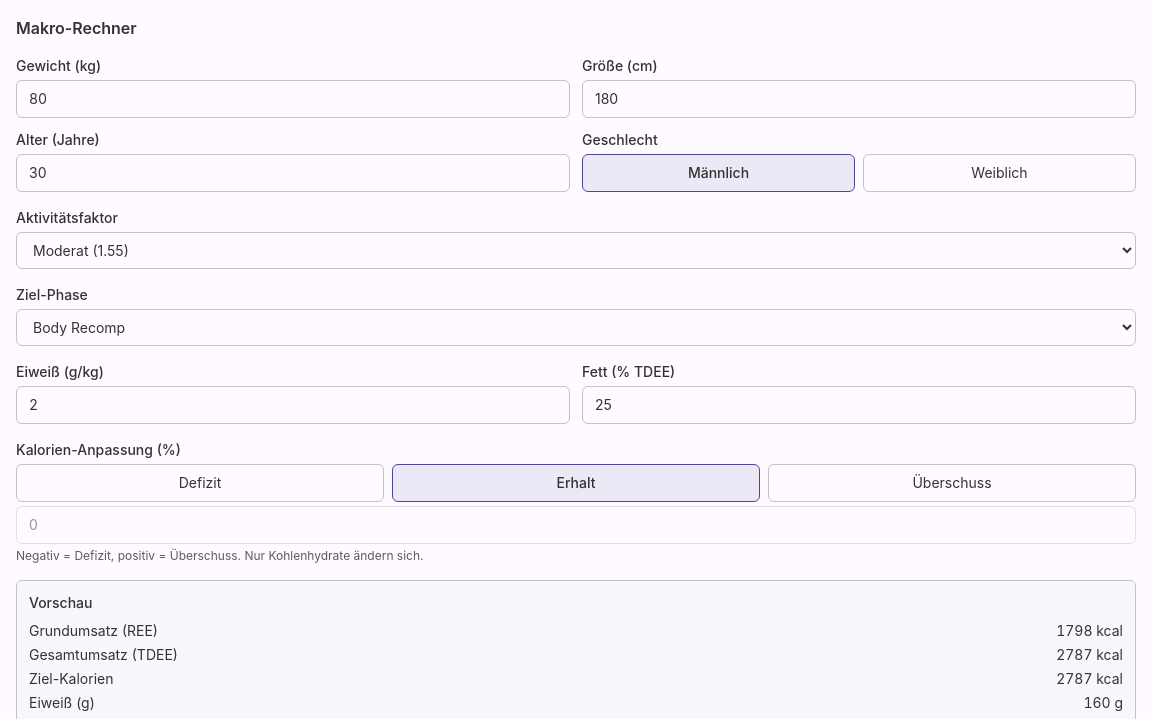
Scenario: BodyProfileForm › selecting fat-loss phase pre-fills protein 2.2, fat 25%, deficit direction + magnitude 20
The width and height of the screenshot is (1152, 719).
expect the heading "Makro-Rechner" is shown: met, box top-left (16, 18), bottom-right (137, 38)
Step 1. Select "Fettabbau" in the dropdown labelled "Ziel-Phase" → (576, 328), box top-left (16, 309), bottom-right (1136, 346)
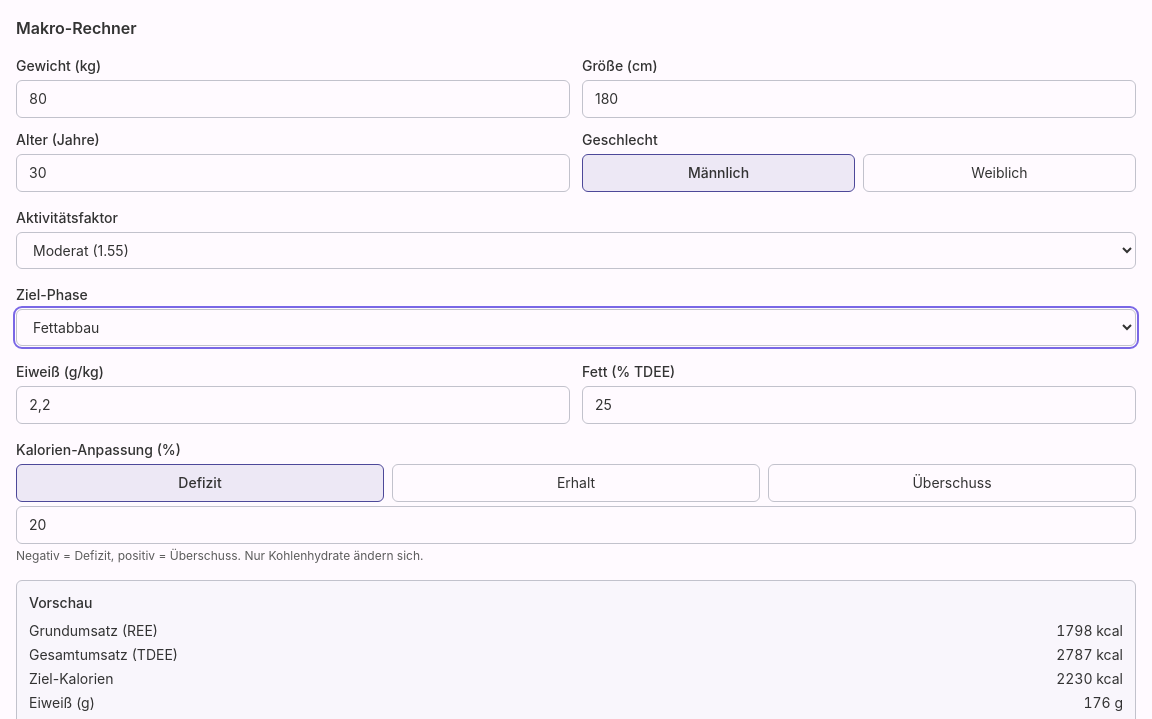
expect the field labelled "Eiweiß (g/kg)" holds "2,2": met, box top-left (16, 386), bottom-right (570, 424)
expect the radio button labelled "Defizit" is checked: met, box top-left (16, 464), bottom-right (384, 502)
expect the number field labelled "Kalorien-Anpassung (%)" holds "20": met, box top-left (16, 506), bottom-right (1136, 544)
